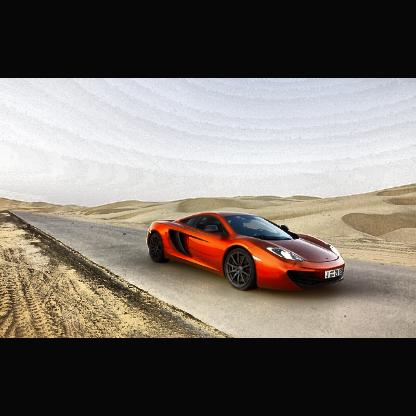McLaren MP4-12C Coupe 2012: (149, 214, 345, 295)
